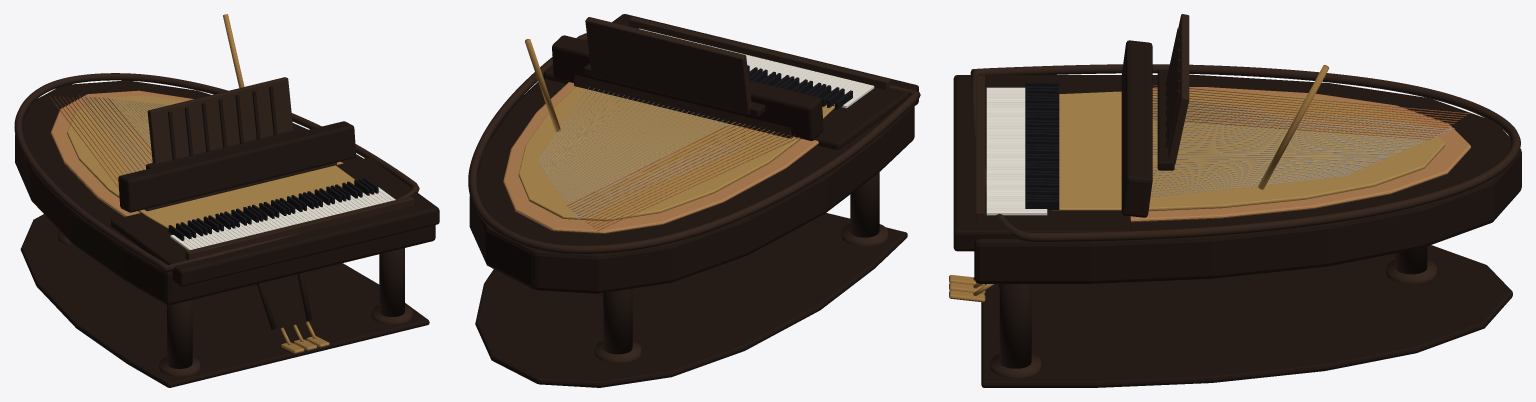
File: concert-grand-piano.glb
3 renders of one model, left to right at view 1: azimuth 30°, elevation 25°; view 2: azimuth 150°, elevation 25°; view 3: azimuth 270°, elevation 25°, orthographic. The views are drawn at different scales.
Visible parts, largest first — view 1: raised_lid, grand_piano_body, cast_iron_plate, keyboard_bed, fallboard, music_desk, grand_piano_rounded_rim, spruce_soundboard, key_slip, leg_1, leg_2, tuning_pin_block (+4 smaller); view 2: raised_lid, grand_piano_body, cast_iron_plate, music_desk, grand_piano_rounded_rim, spruce_soundboard, fallboard, keyboard_bed, key_slip, tuning_pin_block, leg_3, leg_1 (+4 smaller); view 3: raised_lid, grand_piano_body, cast_iron_plate, grand_piano_rounded_rim, keyboard_bed, spruce_soundboard, fallboard, leg_2, music_desk, key_slip, music_desk_ledge, lid_prop (+3 smaller).
Part boxes in pixels (x1,y1,x2,y2): raised_lid: (20,214,429,387); grand_piano_body: (15,80,435,305); cast_iron_plate: (67,95,354,228); keyboard_bed: (111,157,439,286); fallboard: (118,121,356,212); music_desk: (147,77,293,163); grand_piano_rounded_rim: (14,73,419,272); spruce_soundboard: (50,90,343,216); key_slip: (185,196,414,259); leg_1: (167,300,192,368); leg_2: (379,248,404,316); tuning_pin_block: (144,162,336,211); raised_lid: (475,213,907,387); grand_piano_body: (469,78,914,293); cast_iron_plate: (518,86,834,221); music_desk: (585,17,751,114); grand_piano_rounded_rim: (468,33,920,253); spruce_soundboard: (503,82,818,233); fallboard: (552,35,823,140); keyboard_bed: (543,14,918,149); key_slip: (628,16,890,90); tuning_pin_block: (574,75,792,138); leg_3: (603,288,632,354); leg_1: (850,172,879,237); raised_lid: (981,245,1512,387); grand_piano_body: (974,74,1521,283); cast_iron_plate: (1052,91,1445,211); grand_piano_rounded_rim: (970,64,1520,241); keyboard_bed: (953,75,1130,251); spruce_soundboard: (1130,87,1470,222); fallboard: (1121,40,1152,217); leg_2: (999,284,1031,368); music_desk: (1168,14,1189,164); key_slip: (976,75,984,221); music_desk_ledge: (1157,70,1174,170); lid_prop: (1258,65,1329,189).
Size of the model in its own units: 1.69 by 1.33 by 2.36.
